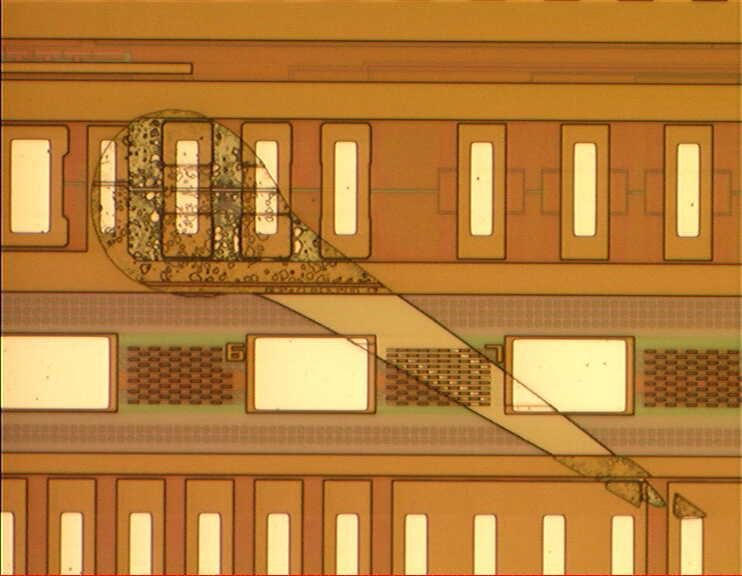COATING BAD: (81, 102, 718, 524)
